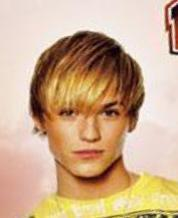face: (57, 101, 122, 159)
